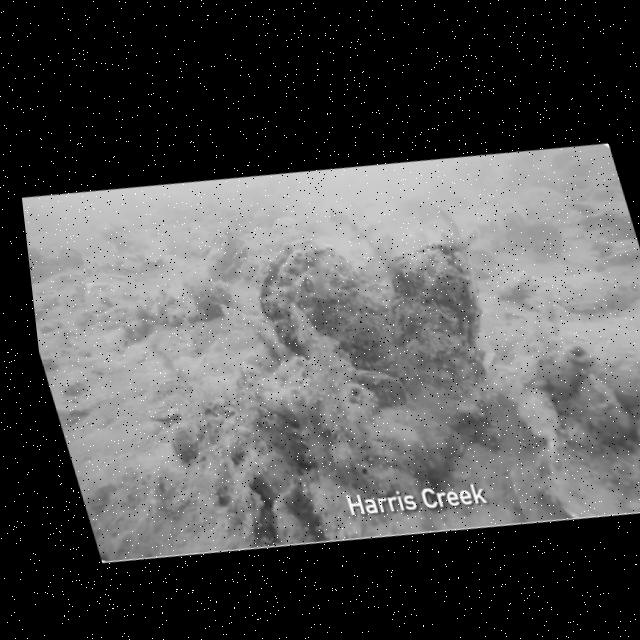Oyster-Indeterminate: (364, 230, 499, 362), (532, 425, 640, 533), (340, 441, 446, 530), (402, 317, 498, 403), (350, 400, 434, 483), (258, 471, 335, 554), (502, 448, 578, 530), (508, 375, 577, 453), (567, 369, 636, 444), (494, 208, 570, 272), (549, 268, 628, 325), (344, 355, 415, 418), (179, 269, 242, 325), (484, 147, 544, 199), (212, 410, 263, 471), (485, 358, 536, 414), (160, 414, 211, 469), (558, 150, 611, 195), (197, 389, 243, 434), (579, 203, 630, 240), (442, 396, 482, 437), (583, 177, 628, 213), (594, 239, 640, 274), (538, 145, 579, 175), (135, 247, 167, 274), (118, 256, 147, 282), (28, 253, 49, 288), (566, 195, 596, 218), (26, 232, 45, 265)
Oyster-Open: (237, 223, 383, 356), (202, 228, 257, 277), (49, 242, 93, 274)
